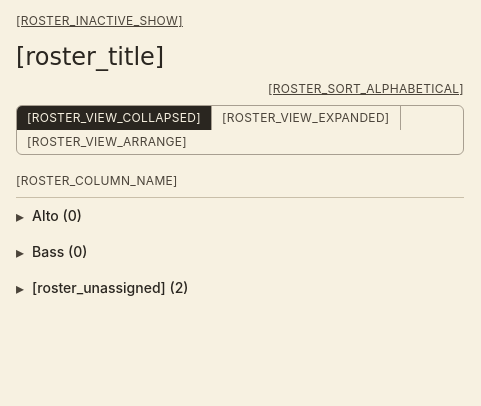
Test: /roster — the arrange surface while offline (#434 slice 6 review F1) › offline: rename, indent/unindent, remove and new-section are all disabled
What coordinates should you click on to do the following:
click the button "[roster_view_arrange]"
I would click on:
 (107, 142)
Its box is 17,130 -> 197,154.
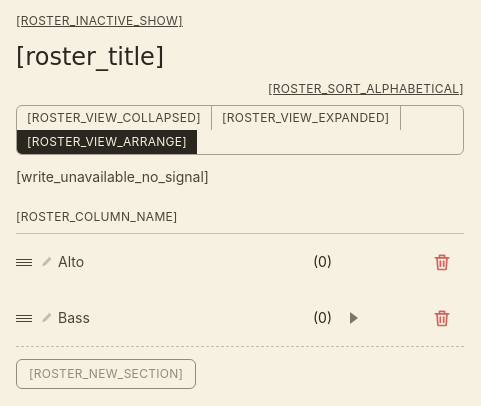
Expected: the text with test id "roster-write-unavailable" reads "[write_unavailable_no_signal]", 16,168 -> 209,185
